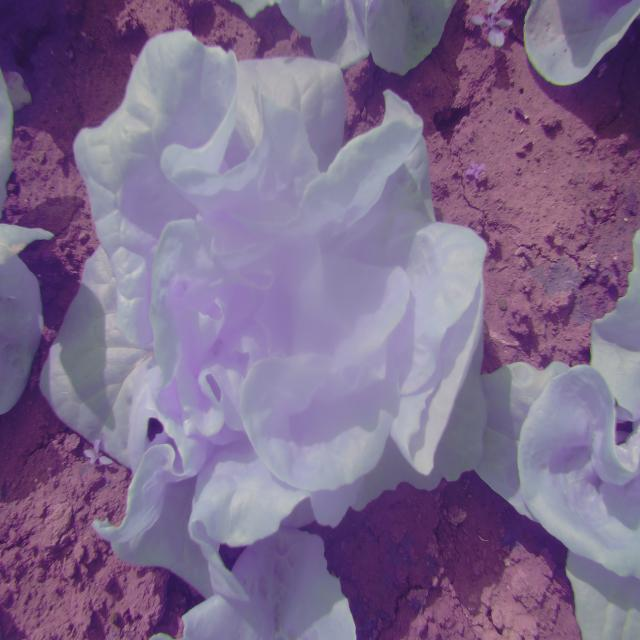vege: (54, 34, 488, 555)
